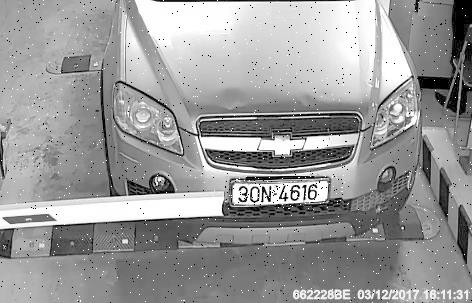License-plate: (227, 178, 345, 211)
